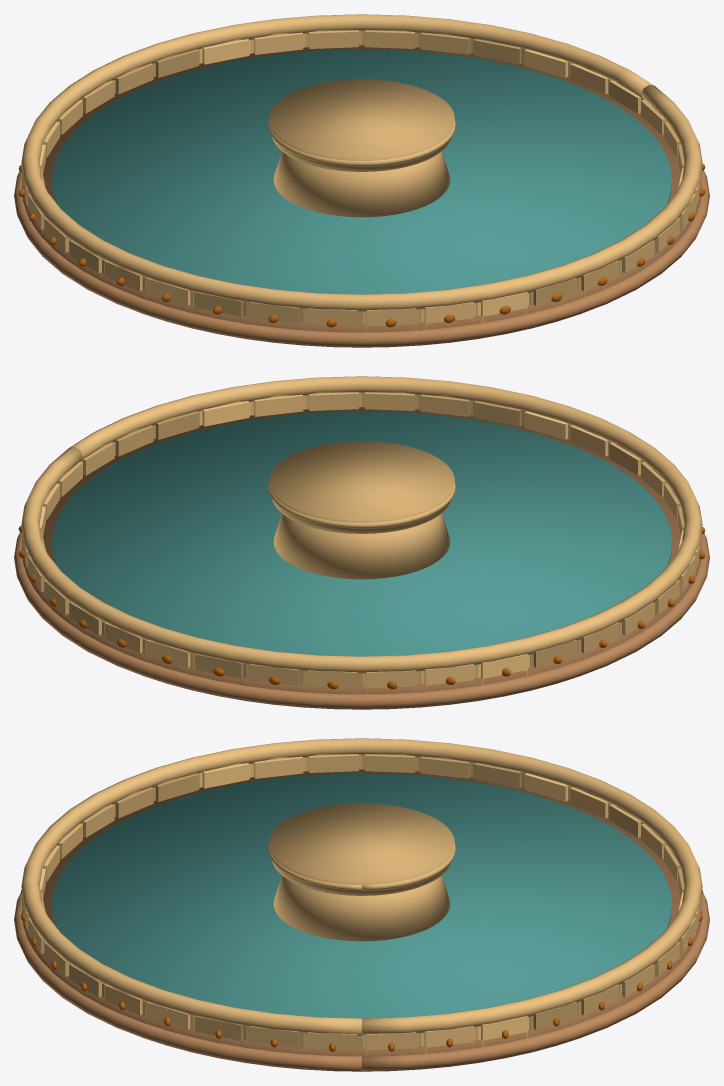
File: fountain.glb
The picture shows the model from 3 angles, top to bottom: view 1: azimuth 30°, elevation 25°; view 2: azimuth 150°, elevation 25°; view 3: azimuth 270°, elevation 25°; orthographic projection.
Parts seen in each view (by area): view 1: fountain; view 2: fountain; view 3: fountain.
Boxes of the visible parts, box(x1,y1,x2,y2) form: fountain: box(14, 14, 709, 347); fountain: box(14, 376, 709, 709); fountain: box(14, 738, 709, 1071).
Bounding box in the file's own units: 9.6 × 1.3 × 9.6.
